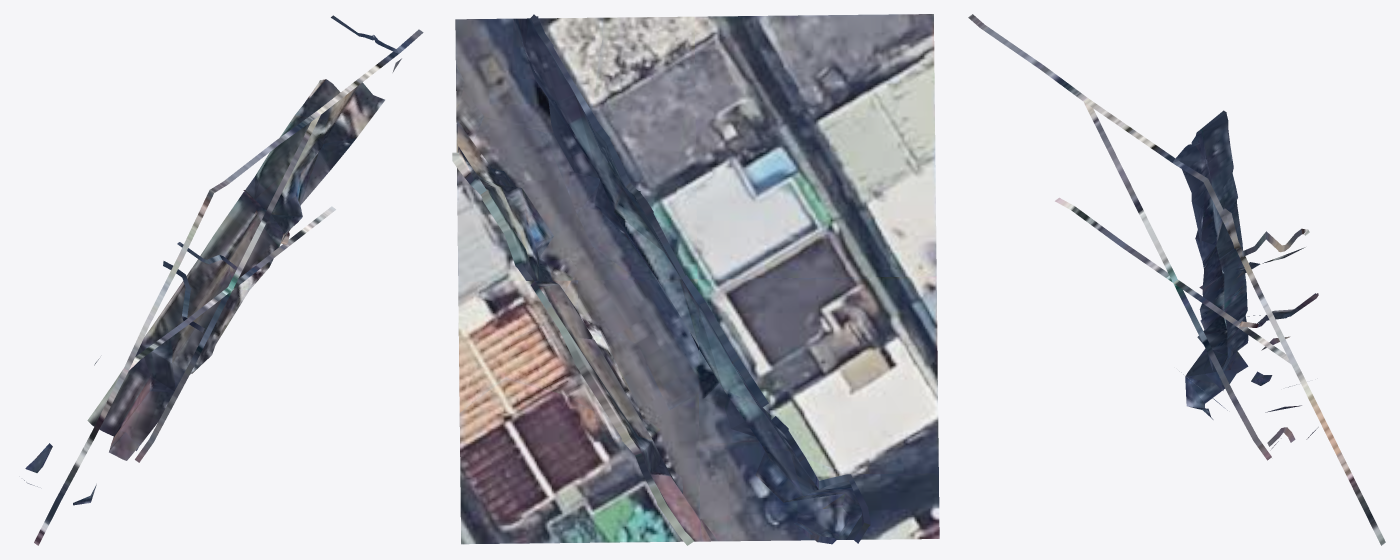
3 renders of one model, left to right at view 1: azimuth 30°, elevation 25°; view 2: azimuth 150°, elevation 25°; view 3: azimuth 270°, elevation 25°, orthographic. The views are drawn at different scales.
Bounding box in the file's own units: 38.18 × 37.31 × 31.94.
1 material, 1 textured.
